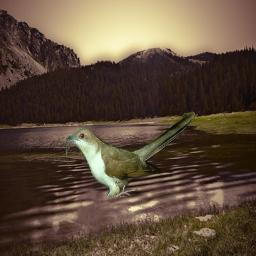Cuckoo: (65, 110, 195, 197)
